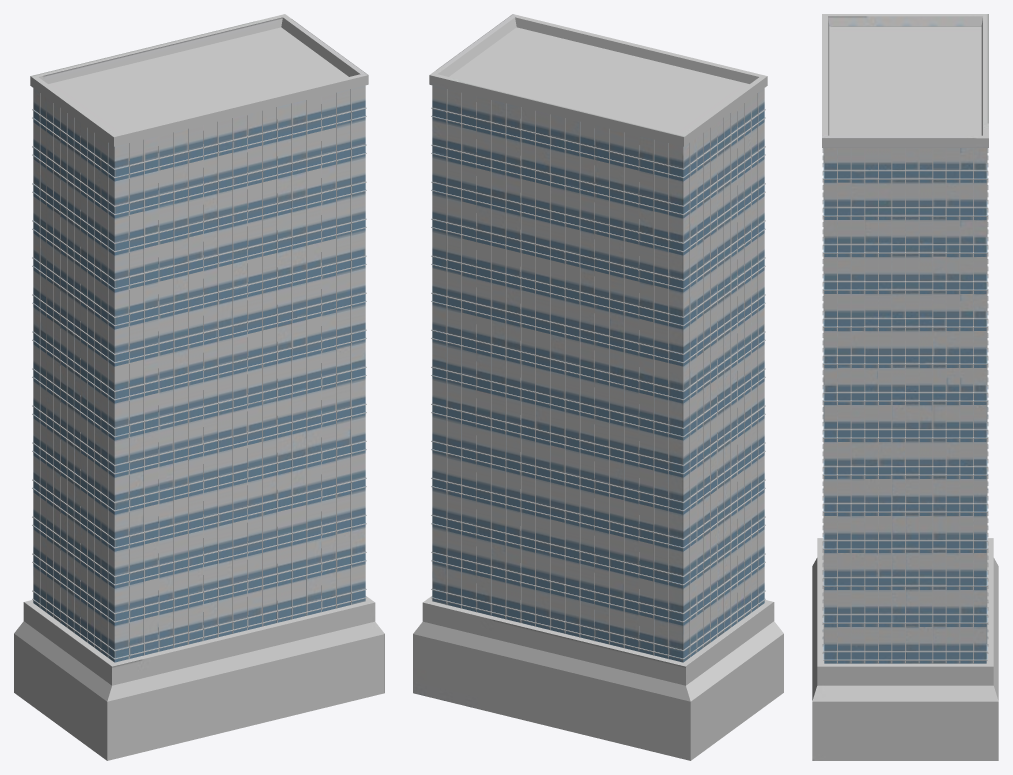
Rendered from building-big-wide-01.glb.
3 views of the same model, side by side, from view 1: azimuth 30°, elevation 25°; view 2: azimuth 150°, elevation 25°; view 3: azimuth 270°, elevation 25° (orthographic).
Parts seen in each view (by area): view 1: Building-Big-Wide-01_Bake1_PBR; view 2: Building-Big-Wide-01_Bake1_PBR; view 3: Building-Big-Wide-01_Bake1_PBR.
Boxes of the visible parts, x1=… form: Building-Big-Wide-01_Bake1_PBR: x1=14, y1=14, x2=384, y2=760; Building-Big-Wide-01_Bake1_PBR: x1=413, y1=14, x2=783, y2=760; Building-Big-Wide-01_Bake1_PBR: x1=812, y1=14, x2=998, y2=760.
Bounding box in the file's own units: 37.56 × 79.77 × 21.84.
1 material, 1 textured.
